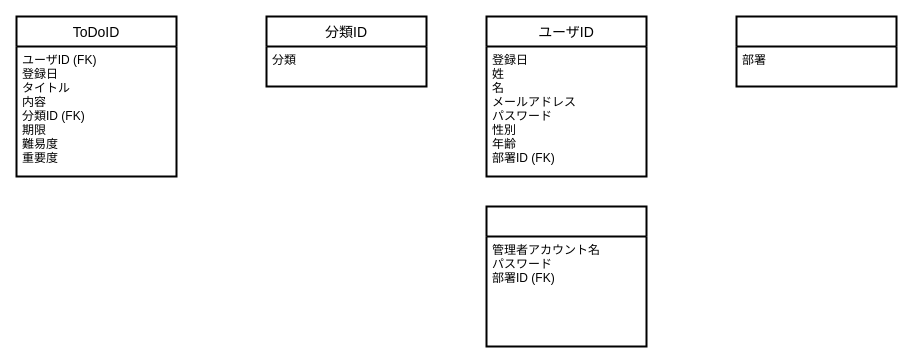
Image size: 913x363. Some labels were removed from this diagram. The box of each missing label's shape, as (x1, y1, x2, y2) in pixels:
管理者ID: (485, 205, 647, 347)
部署ID: (735, 15, 897, 87)
